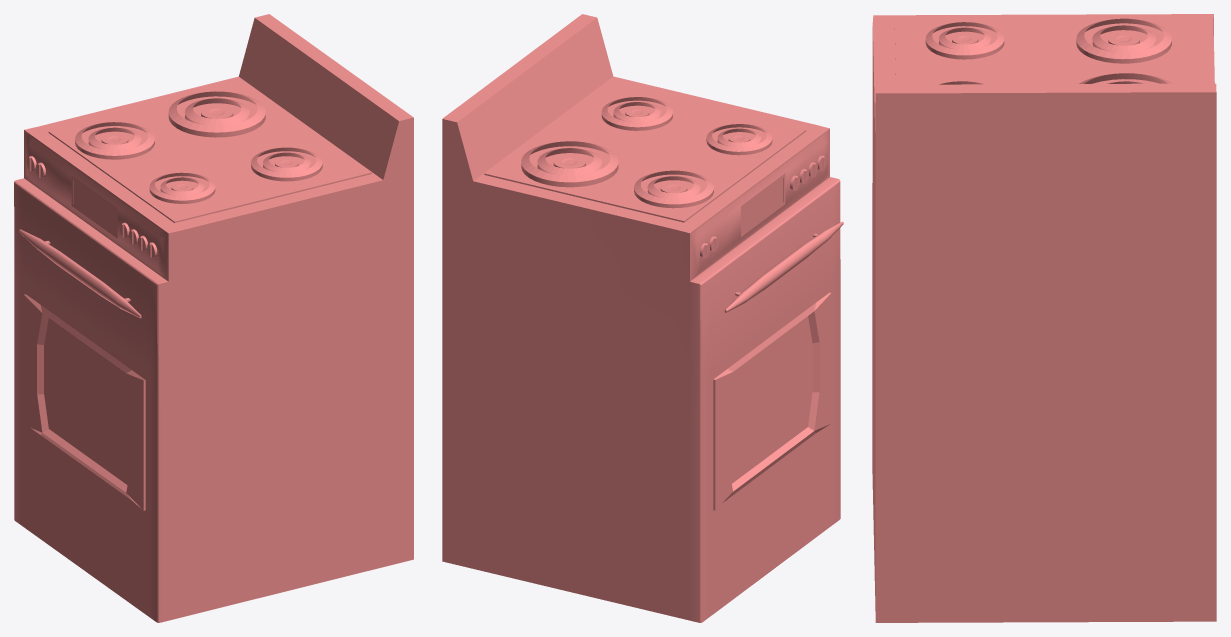
File: Stove_resized.FBX
3 views of the same model, side by side, from view 1: azimuth 30°, elevation 25°; view 2: azimuth 150°, elevation 25°; view 3: azimuth 270°, elevation 25° (orthographic). The views are drawn at different scales.
Visible parts, largest first — view 1: stove machine, oven glass, burner 1, burner 3, burner 2, oven handle, burner 4; view 2: stove machine, oven glass, burner 1, burner 3, burner 2, oven handle, burner 4; view 3: stove machine, burner 3, burner 4, burner 1.
Boxes of the visible parts, bbox=[...] form: stove machine: bbox=[14, 14, 413, 622]; oven glass: bbox=[44, 318, 131, 484]; burner 1: bbox=[168, 91, 265, 137]; burner 3: bbox=[75, 122, 154, 159]; burner 2: bbox=[251, 147, 322, 181]; oven handle: bbox=[19, 229, 141, 318]; burner 4: bbox=[149, 172, 215, 203]; stove machine: bbox=[442, 14, 840, 622]; oven glass: bbox=[728, 316, 812, 483]; burner 1: bbox=[521, 141, 618, 187]; burner 3: bbox=[634, 170, 713, 208]; burner 2: bbox=[601, 97, 672, 130]; oven handle: bbox=[724, 221, 843, 312]; burner 4: bbox=[706, 124, 772, 155]; stove machine: bbox=[872, 14, 1216, 622]; burner 3: bbox=[1076, 18, 1171, 63]; burner 4: bbox=[925, 22, 1004, 59]; burner 1: bbox=[1079, 73, 1172, 83].
Bounding box in the file's own units: 1.12 × 1.74 × 1.02.
